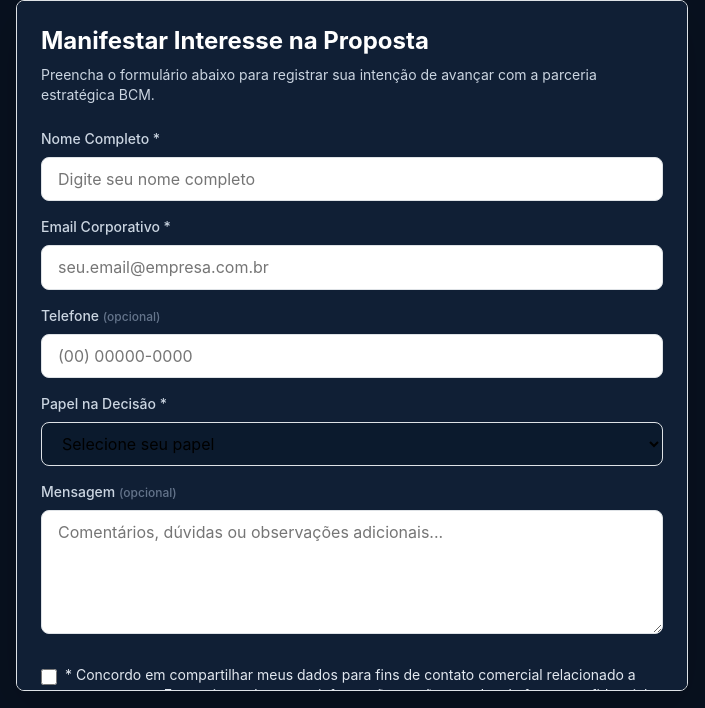
Test case: IntentForm › Form Submission › should provide retry option on error
Note: Fill and submit form
Type "João Silva" into the field labelled "Nome Completo *".
click(352, 179); type("João Silva")  # box [41,157,663,201]
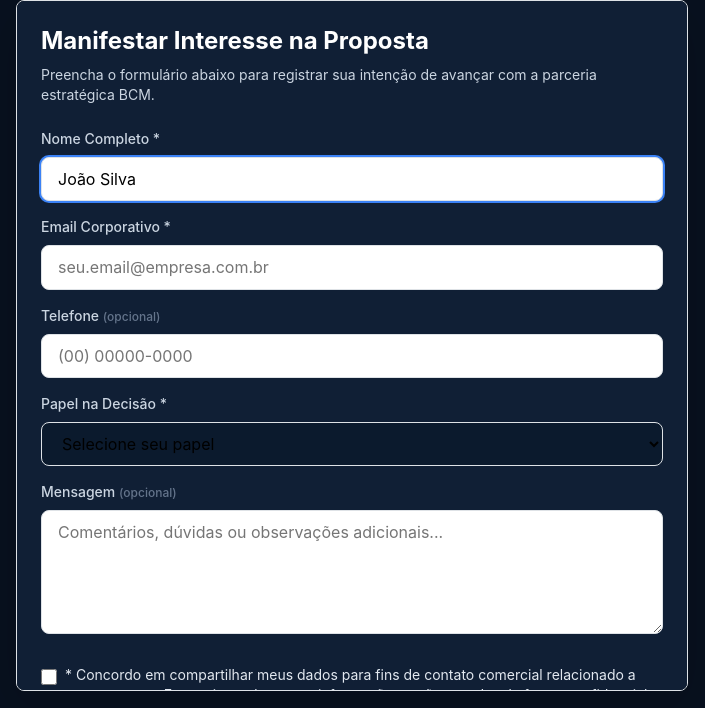
Type "joao@empresa.com.br" into the field labelled "Email Corporativo *".
click(352, 268); type("joao@empresa.com.br")  # box [41,245,663,290]
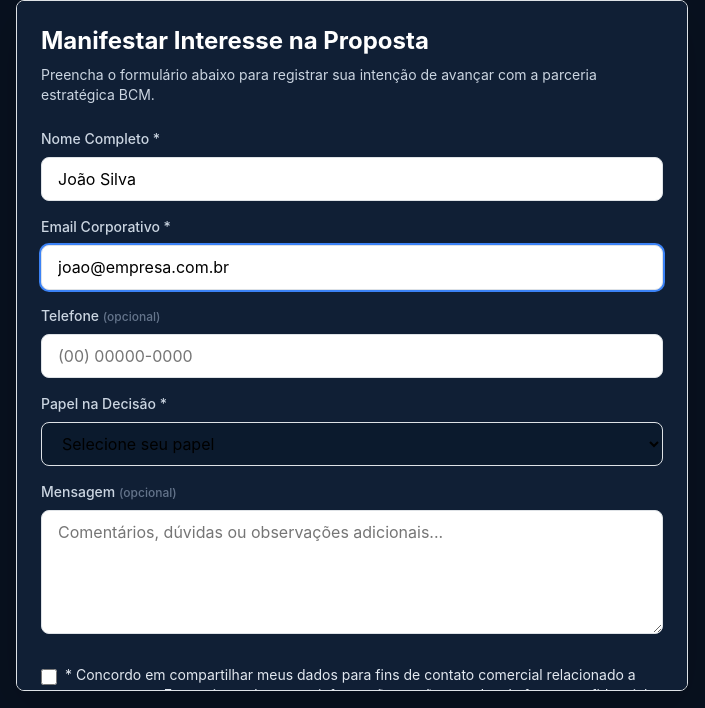
Select "Decisor Final" in the dropdown labelled "Papel na Decisão *" at (352, 444), box [41,422,663,466]
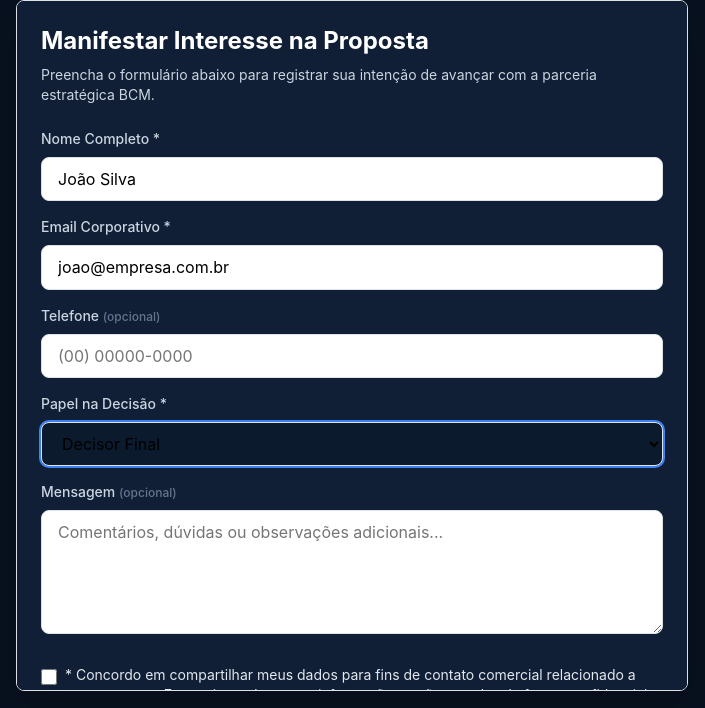
Click the checkbox labelled "Concordo em compartilhar".
click(49, 677)  # box [41,669,57,685]
(page scrolled)
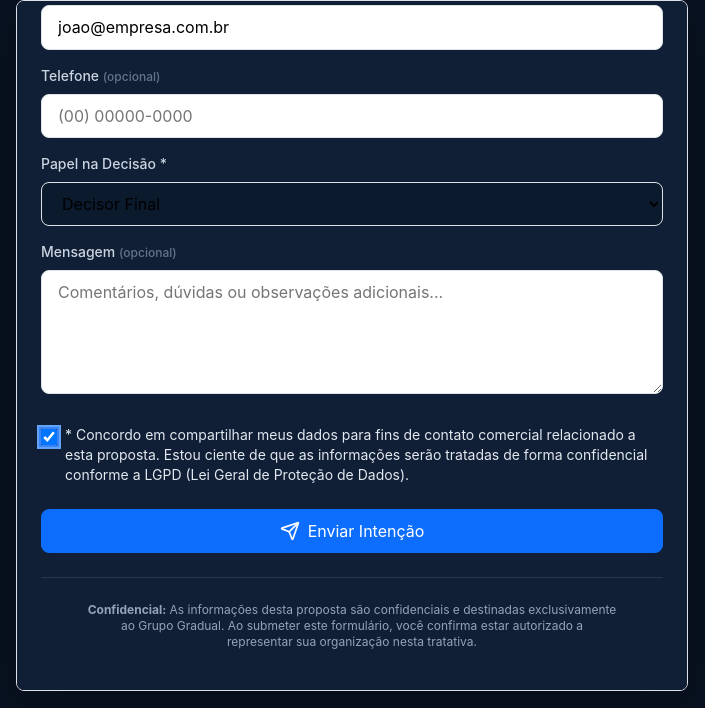
Click the button "Enviar Intenção".
click(352, 531)  # box [41,509,663,553]
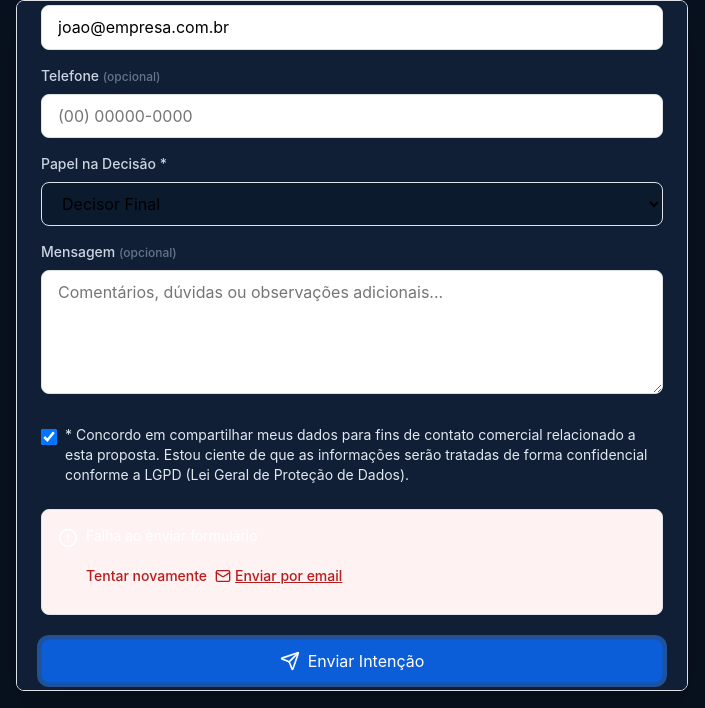
Result: the button "Tentar novamente" is shown at [86,554,207,598]
